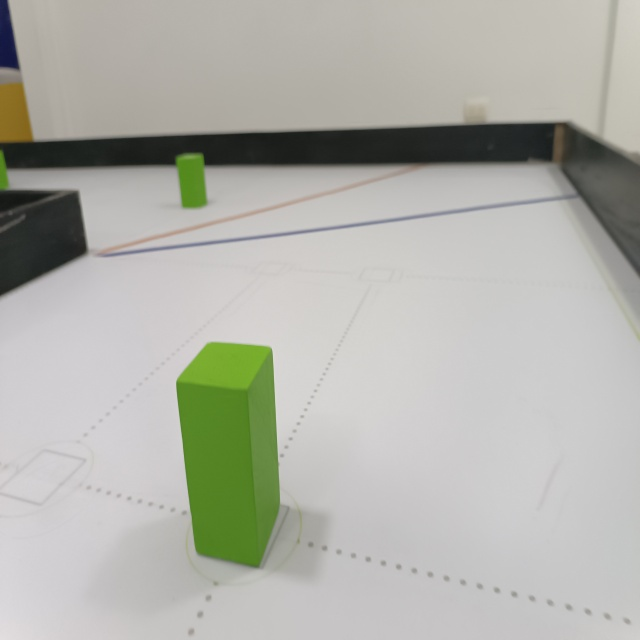blue line: (106, 194, 579, 258)
green rectangular prism: (172, 335, 284, 571), (173, 149, 210, 212)
orange line: (100, 163, 422, 254)
